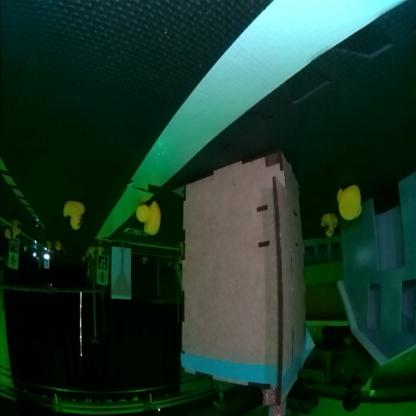Duckie: (137, 202, 161, 236), (338, 189, 362, 219), (66, 202, 86, 230), (321, 215, 337, 237), (56, 244, 62, 249)
QR code: (11, 240, 19, 253), (100, 258, 108, 270)
